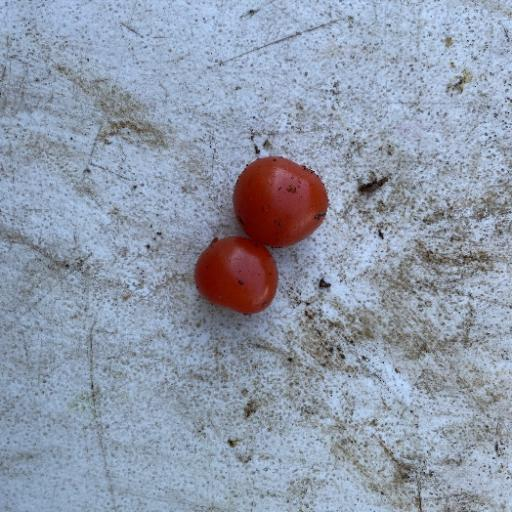Waste: (192, 154, 330, 316), (231, 154, 329, 250), (192, 234, 278, 316)
